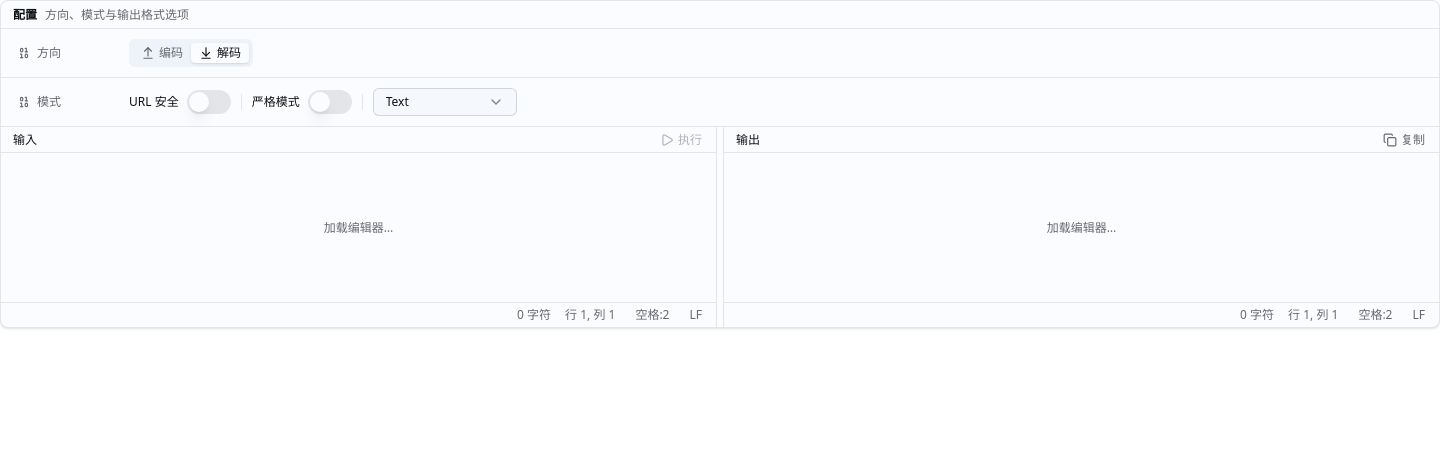
Scenario: Base64Codec 统一转换工具 › renders file dropzone for encode image mode
This screenshot has width=1440, height=471.
Press the mouse on the tab "编码" at (162, 53), box 133,43 -> 191,63
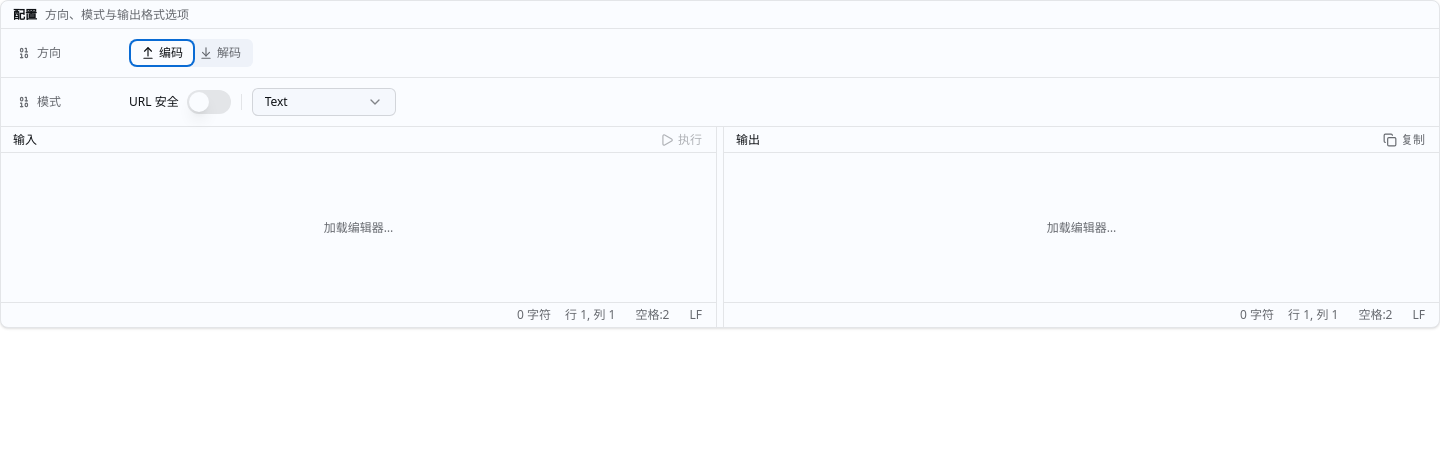
Click the dropdown at (324, 102), box 252,88 -> 396,116
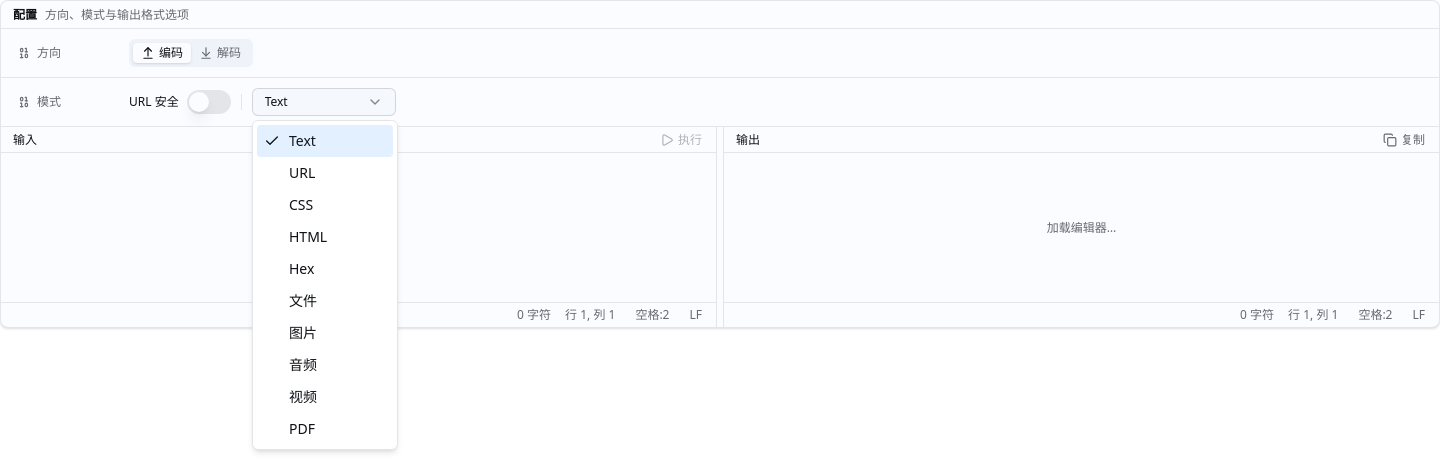
Click the option "图片" at (303, 332), box 289,323 -> 317,342
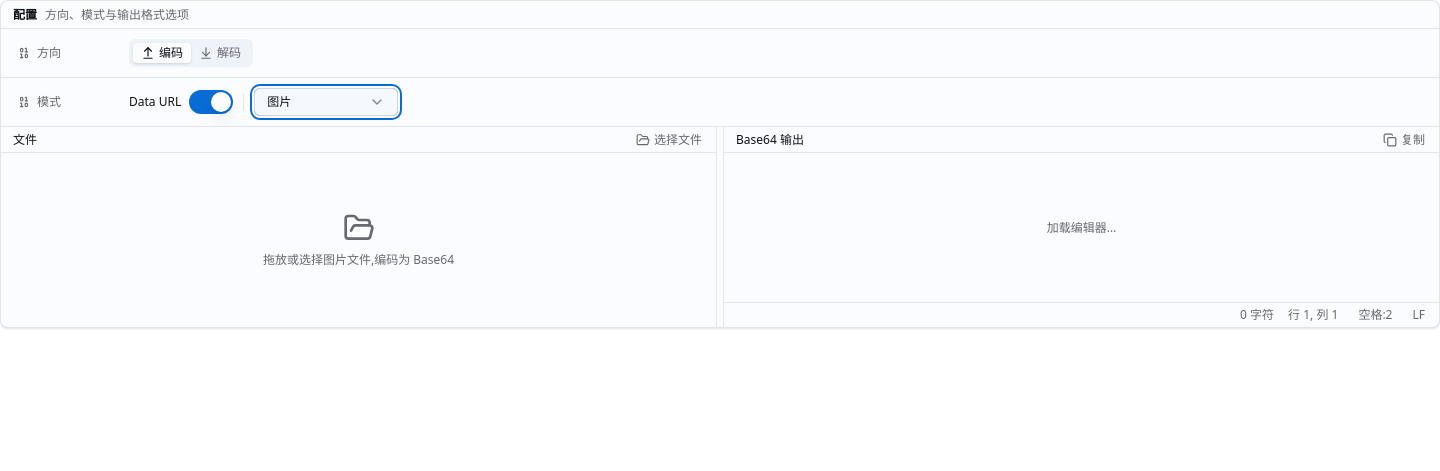
Expected: the element with test id "b64-dropzone" is shown, 263,212 -> 454,268
Expected: the element with test id "b64-file" is shown, 1,127 -> 717,327
